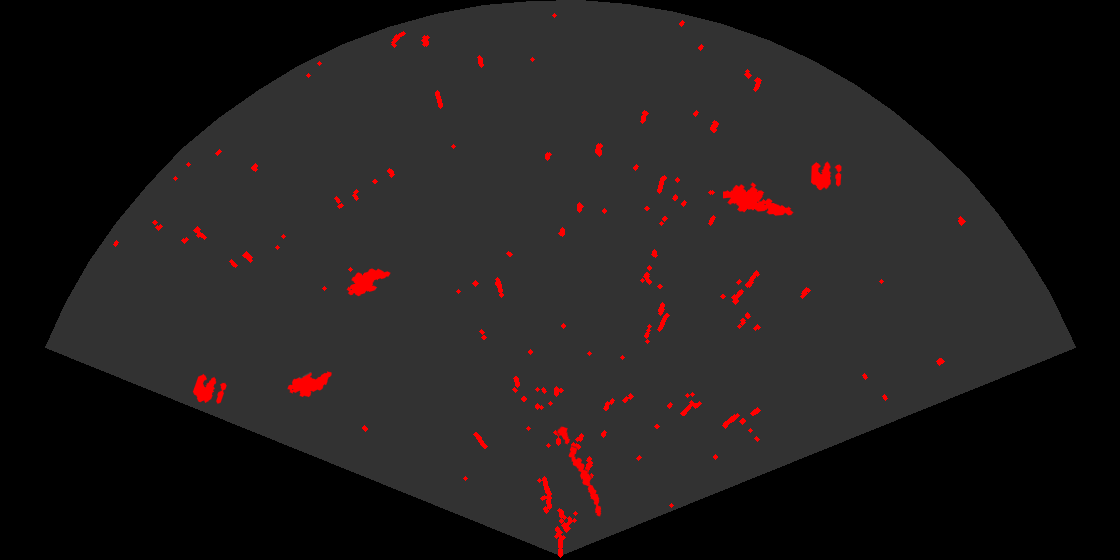AUV: (345, 267, 392, 298), (286, 370, 333, 399)
ball: (191, 372, 228, 405), (809, 160, 843, 192)
chain: (556, 425, 603, 518)
frogman: (723, 181, 795, 217)
